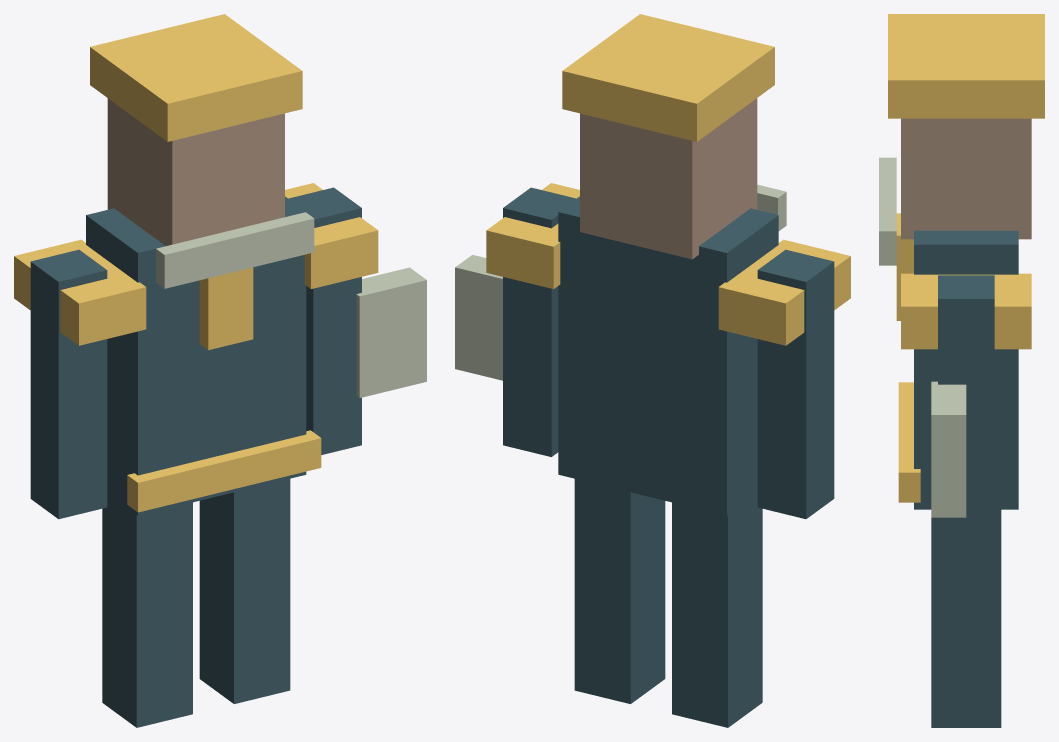
File: 18_astra_glassroot_warden_under.glb
The picture shows the model from 3 angles, left to right: view 1: azimuth 30°, elevation 25°; view 2: azimuth 150°, elevation 25°; view 3: azimuth 270°, elevation 25°; orthographic projection.
Visible parts, largest first — view 1: Astra Glassroot, Warden under; view 2: Astra Glassroot, Warden under; view 3: Astra Glassroot, Warden under.
Boxes of the visible parts, bbox=[...] form: Astra Glassroot, Warden under: bbox=[14, 14, 426, 727]; Astra Glassroot, Warden under: bbox=[455, 14, 850, 727]; Astra Glassroot, Warden under: bbox=[879, 14, 1044, 727].
Bounding box in the file's own units: 1 × 1.68 × 0.3915.
